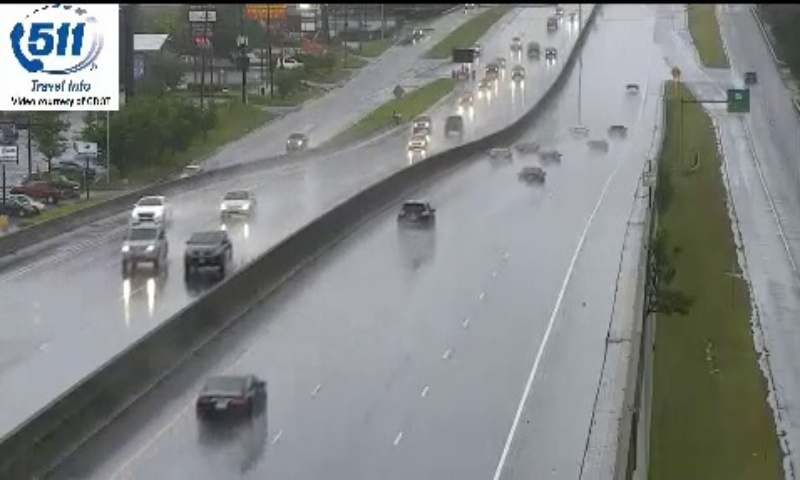car: (195, 375, 266, 424), (397, 201, 436, 231), (518, 166, 546, 187)
